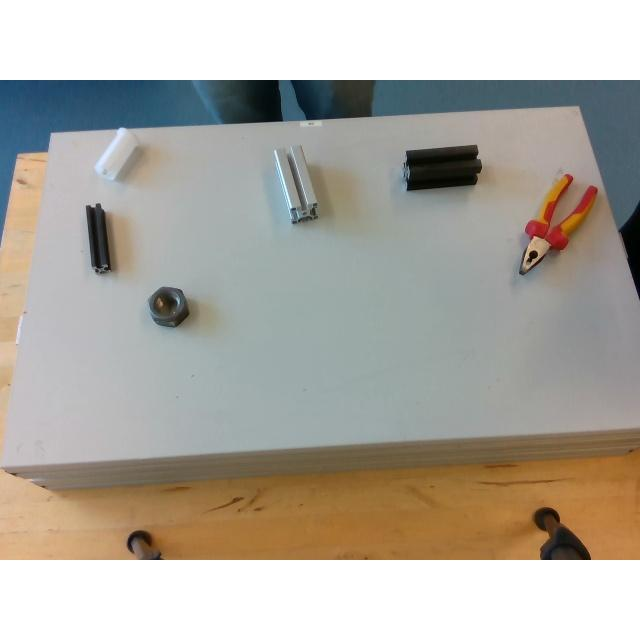F20_20_B: (86, 204, 110, 270)
M30: (149, 286, 189, 326)
S40_40_B: (404, 144, 480, 188)
S40_40_G: (274, 144, 318, 220)
Spacer: (94, 128, 138, 176)
